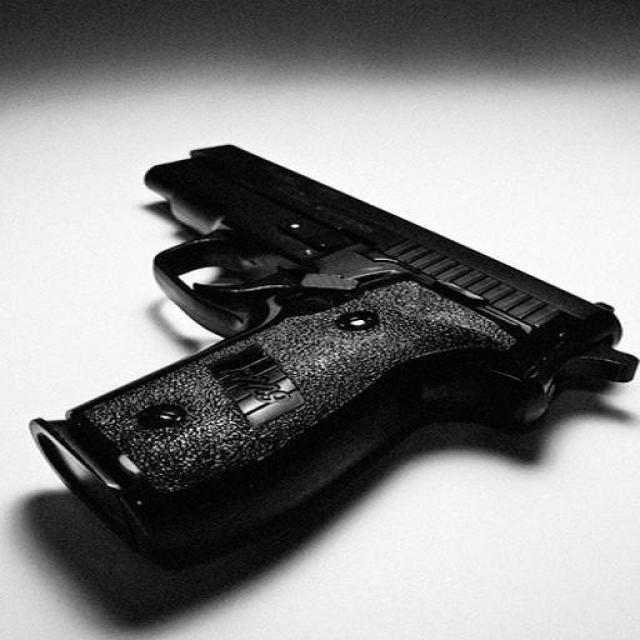pistol: (31, 141, 640, 566)
